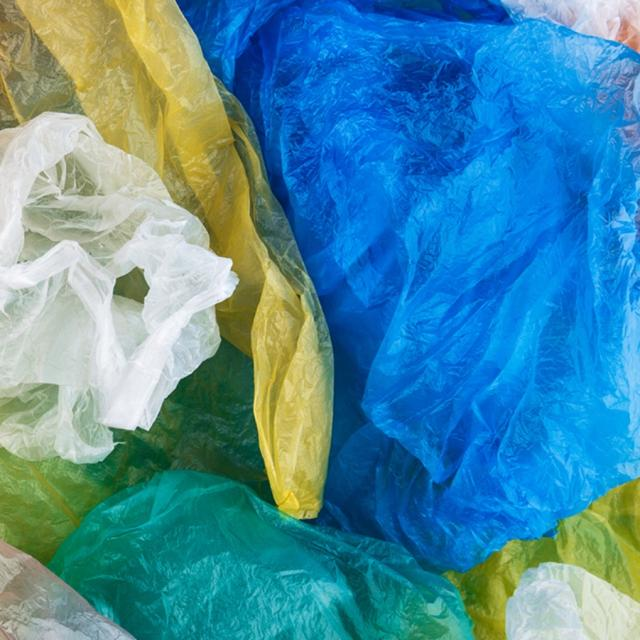Single-layer Plastic: (180, 0, 640, 572), (0, 0, 332, 519), (0, 112, 238, 462), (50, 470, 474, 640), (0, 340, 272, 562), (446, 480, 640, 639), (0, 541, 136, 640), (506, 562, 640, 640)
